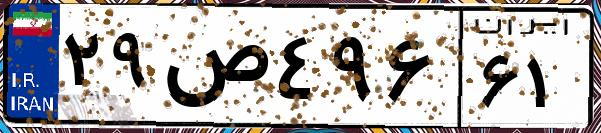1: (525, 38, 570, 115)
2: (57, 26, 110, 100)
4: (270, 28, 330, 110)
6: (385, 28, 445, 110), (475, 38, 525, 113)
9: (330, 28, 385, 110), (110, 28, 158, 98)
ص: (158, 20, 270, 120)
